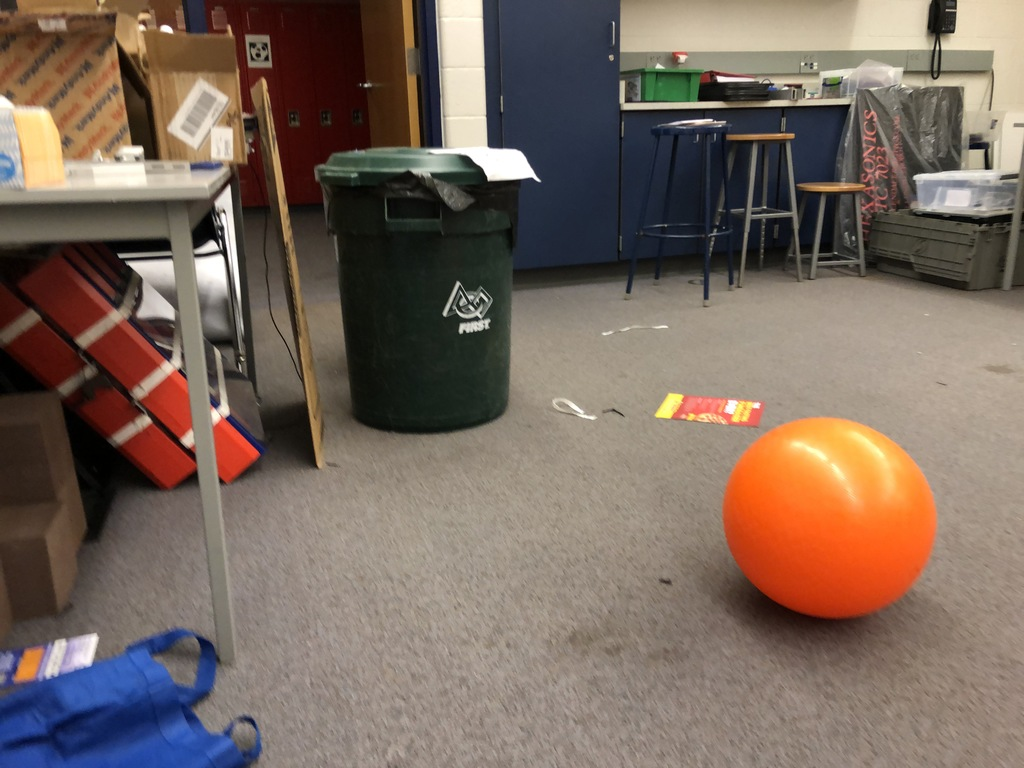cargo: (719, 413, 948, 628)
